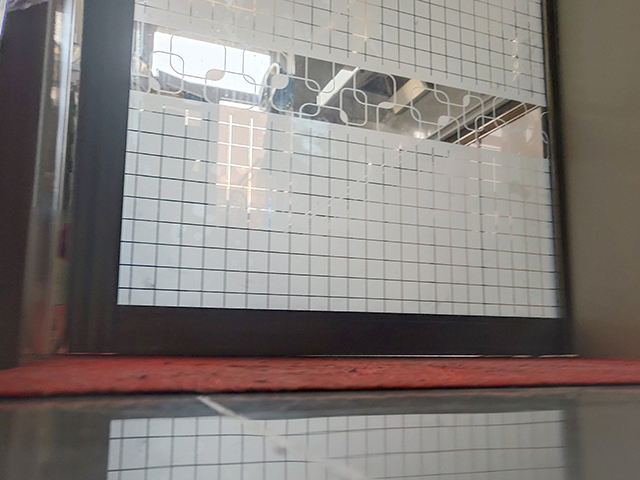carpet: (1, 352, 640, 401)
